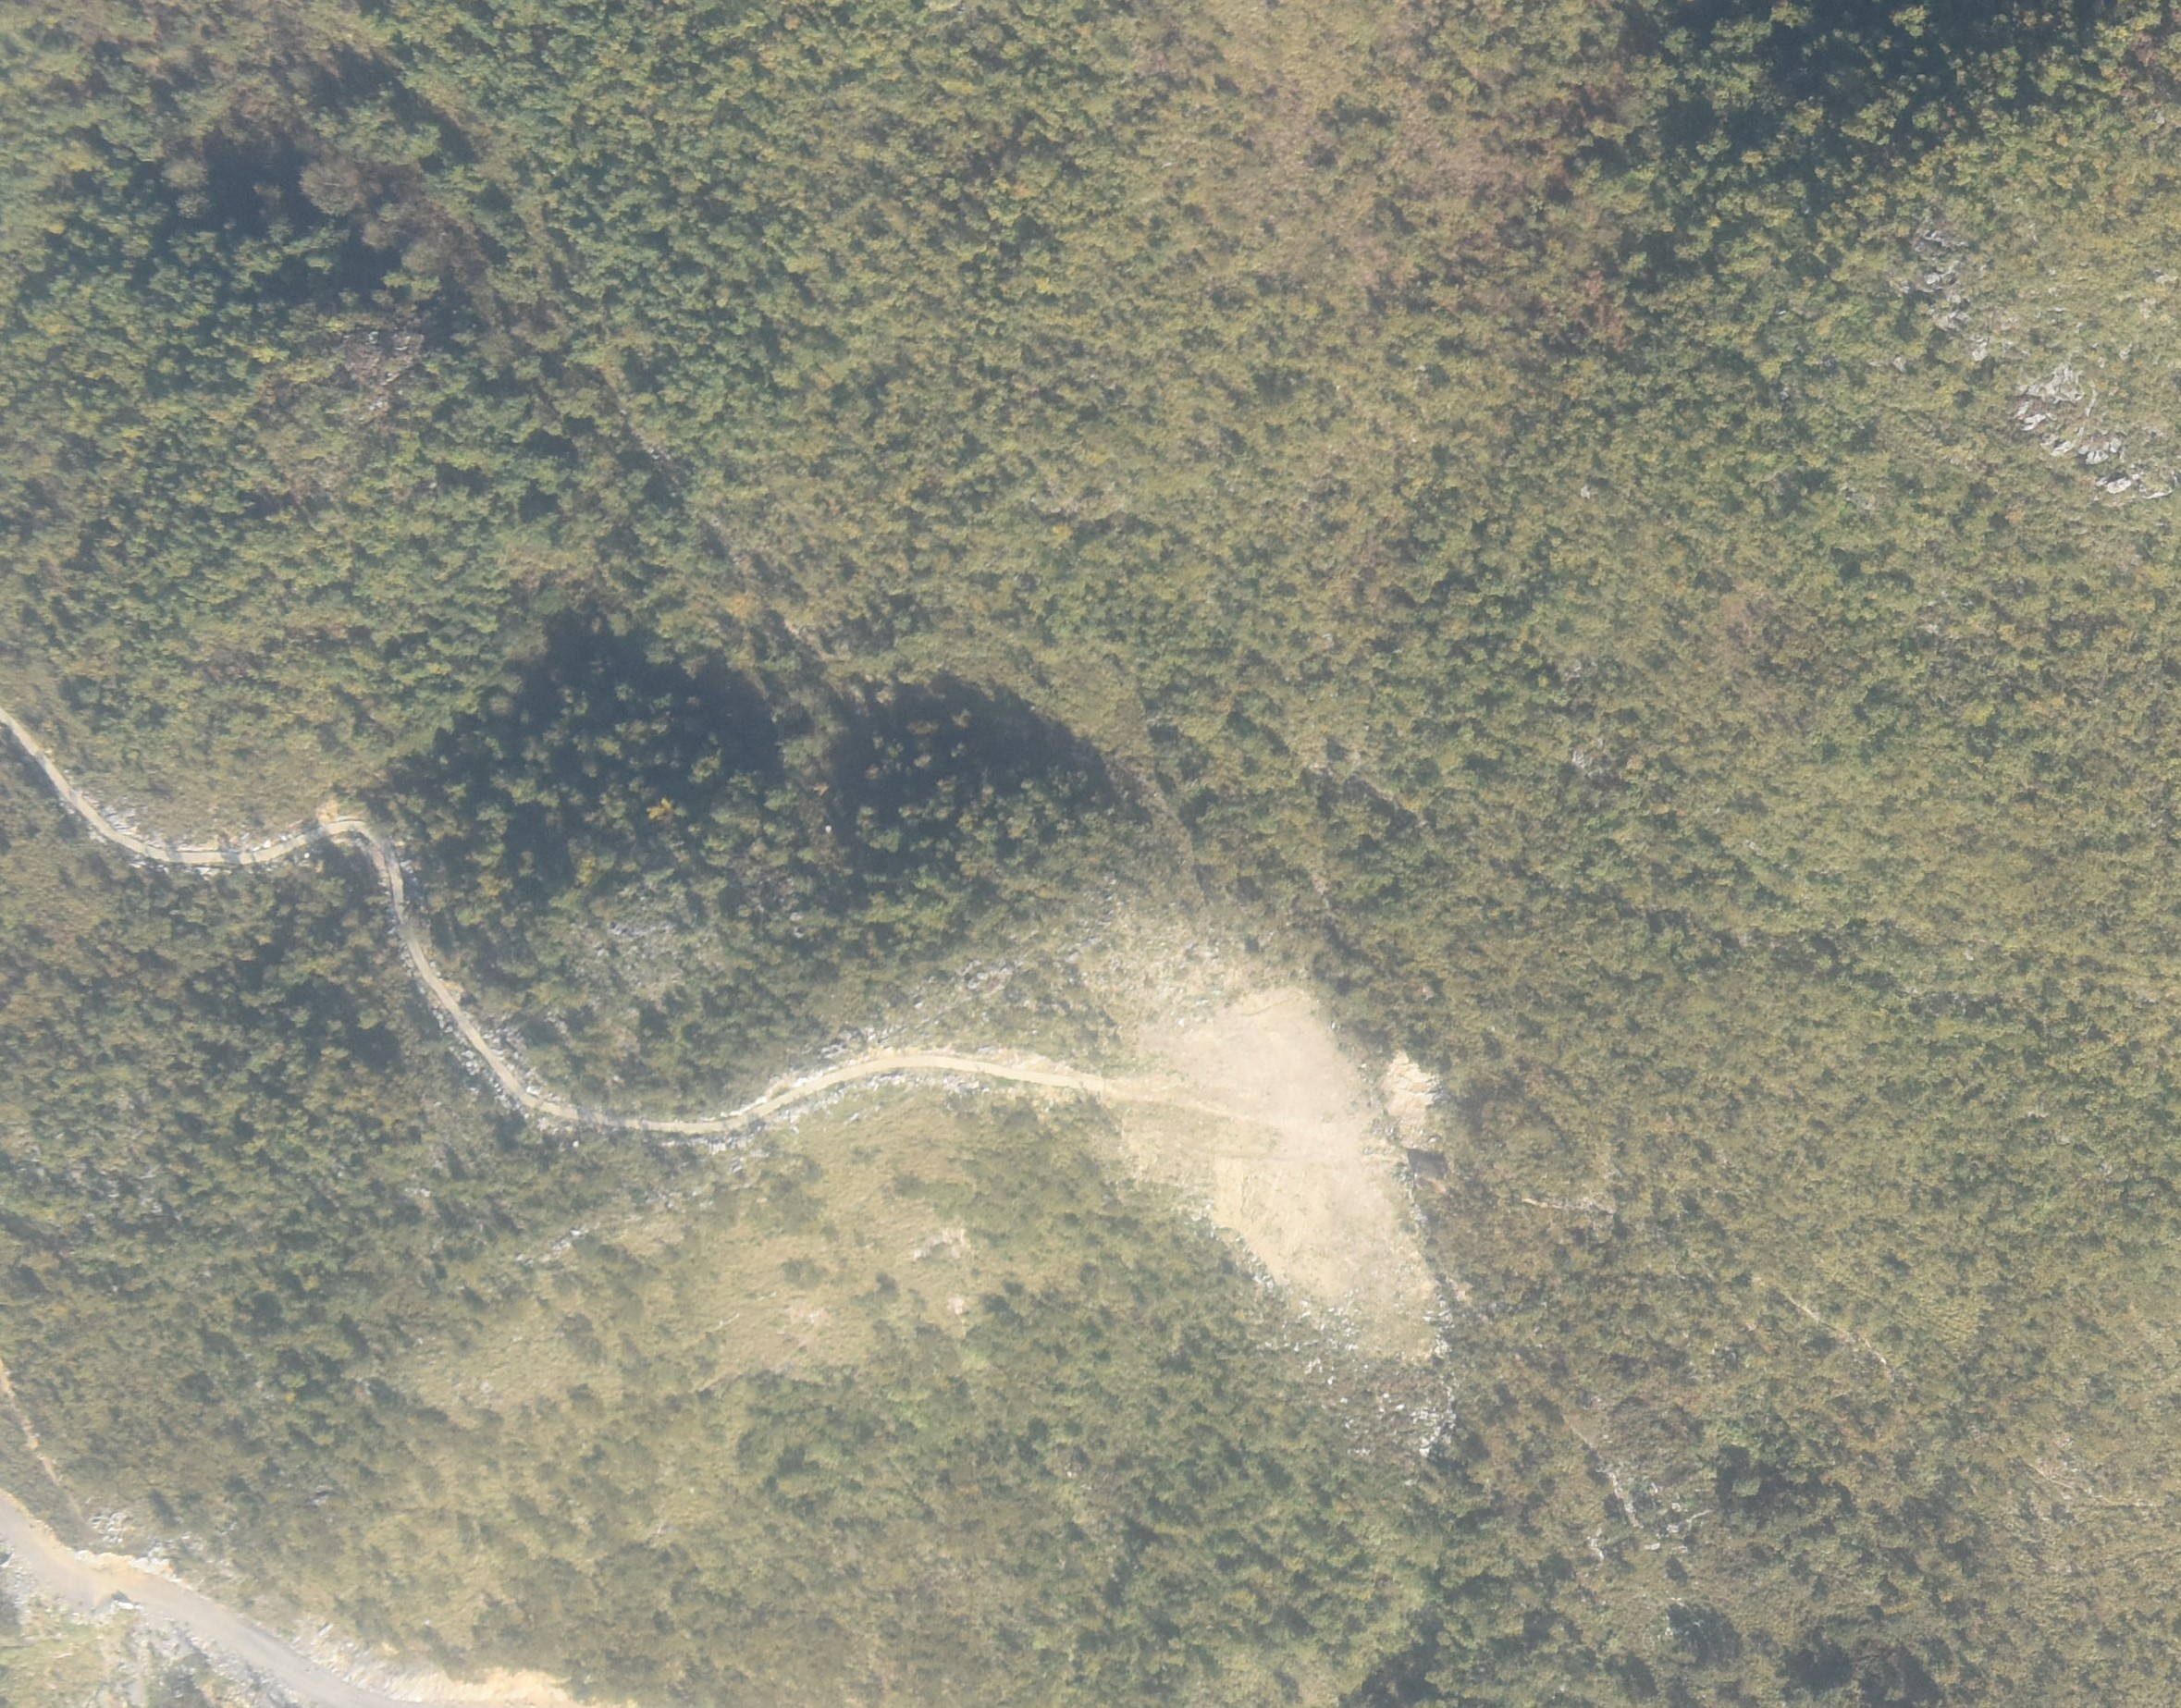quarry: (1107, 988, 1460, 1367)
